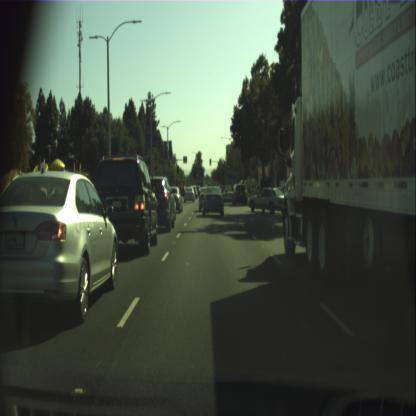Green: (242, 170, 244, 178)
Yellow: (196, 172, 198, 176)
off: (176, 164, 179, 174), (209, 157, 211, 165)
